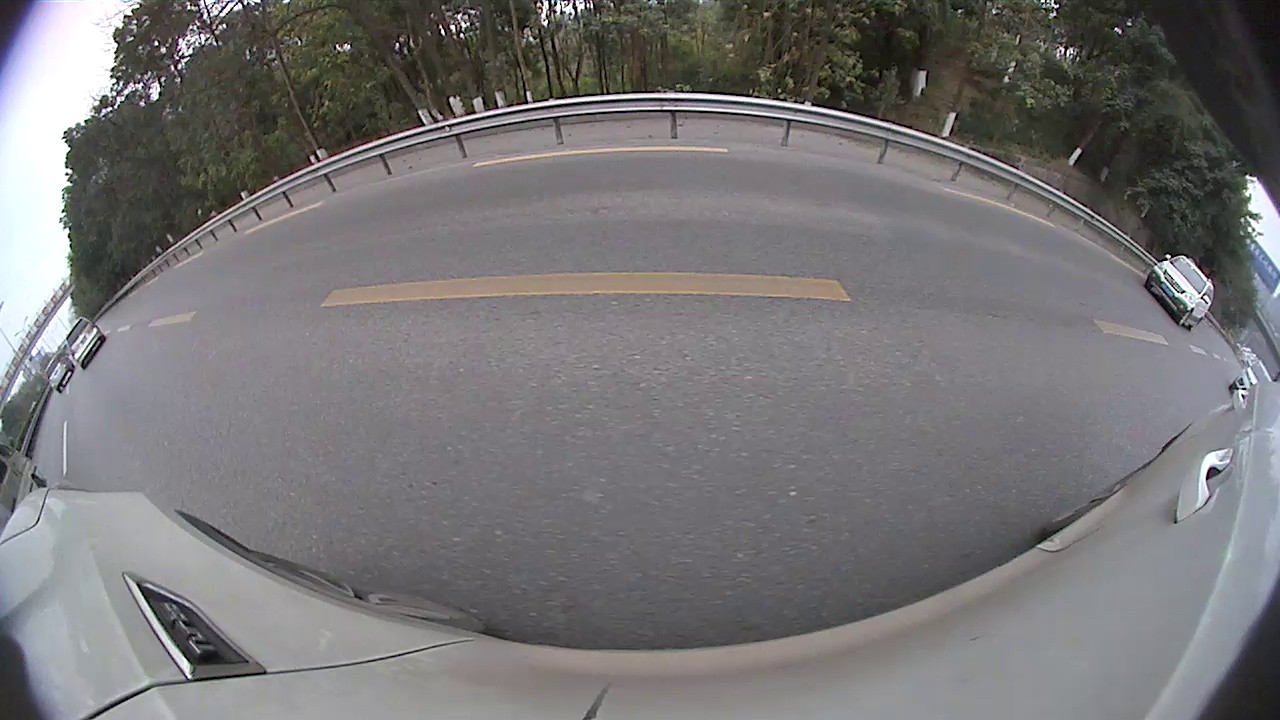car: (1143, 253, 1218, 332), (0, 444, 49, 534), (63, 315, 107, 371), (1227, 359, 1275, 407), (43, 351, 77, 394)
front: (1178, 310, 1191, 327)
